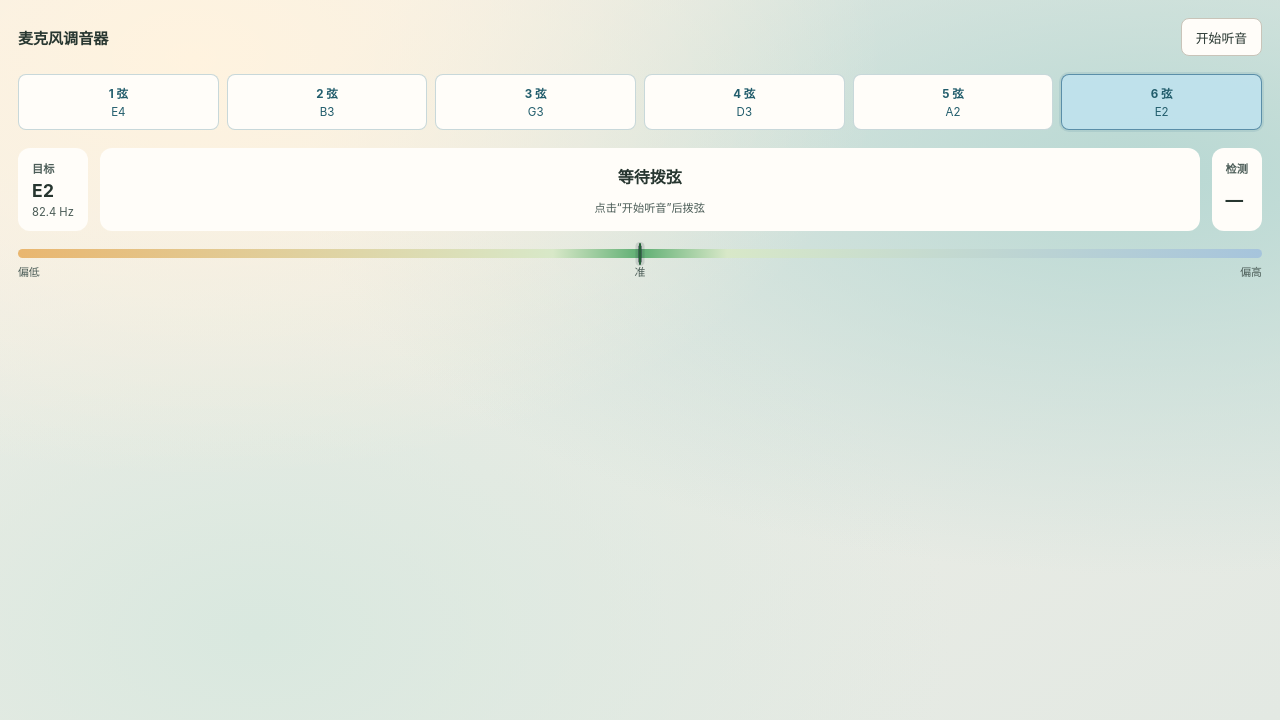
Test: GuitarTuner › explains when this browser cannot open a microphone
This screenshot has width=1280, height=720.
Click the button "开始听音": (1221, 37) left=1181, top=18, right=1262, bottom=56
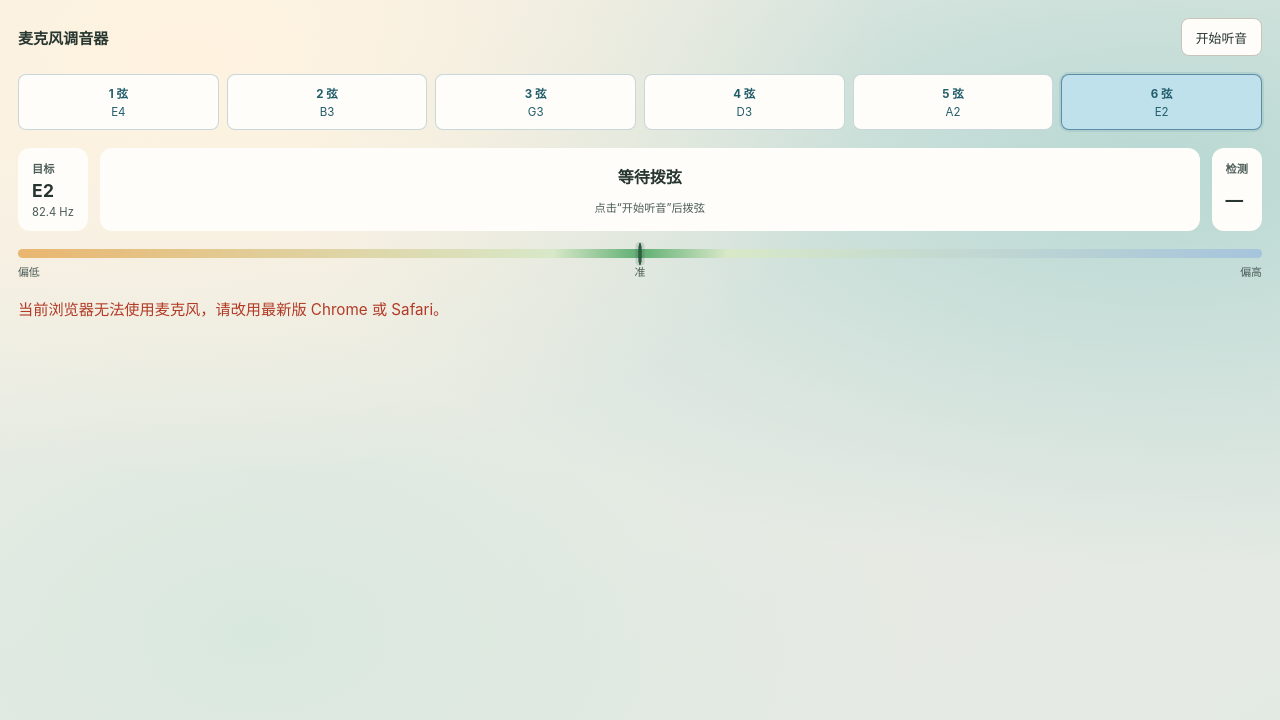
Expected: the text "当前浏览器无法使用麦克风，请改用最新版 Chrome 或 Safari。" is shown, left=18, top=300, right=448, bottom=319
